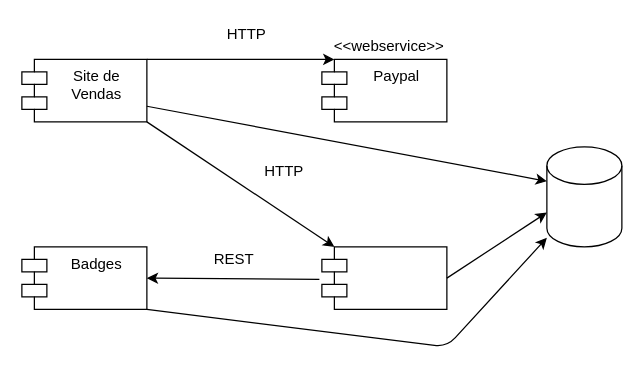
The diagram is 644 pixels wide and 379 high, and some of its shapes have lost their labels. Each missing label, with the centre of its shape:
"E-leaning" goes at (x=384, y=277).
"MySQL" goes at (x=584, y=196).
